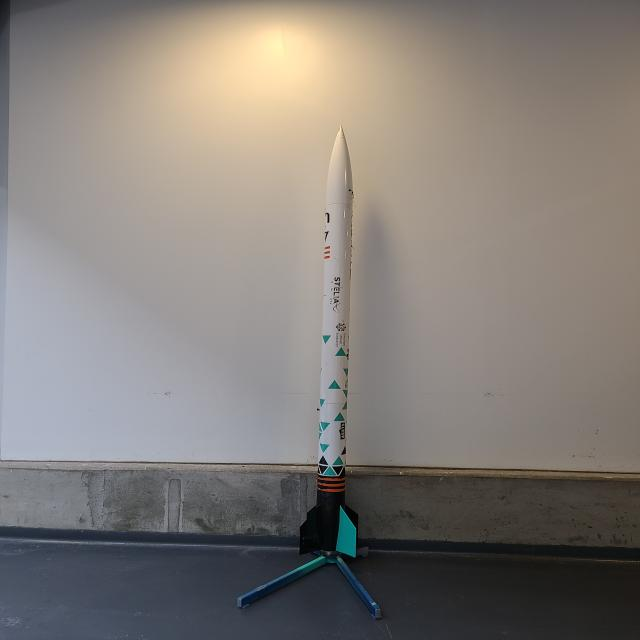Rocket: (300, 124, 359, 559)
